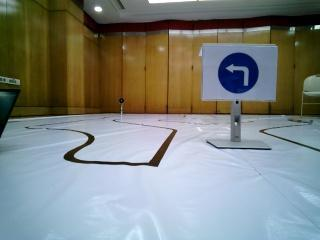left: (206, 49, 264, 98)
